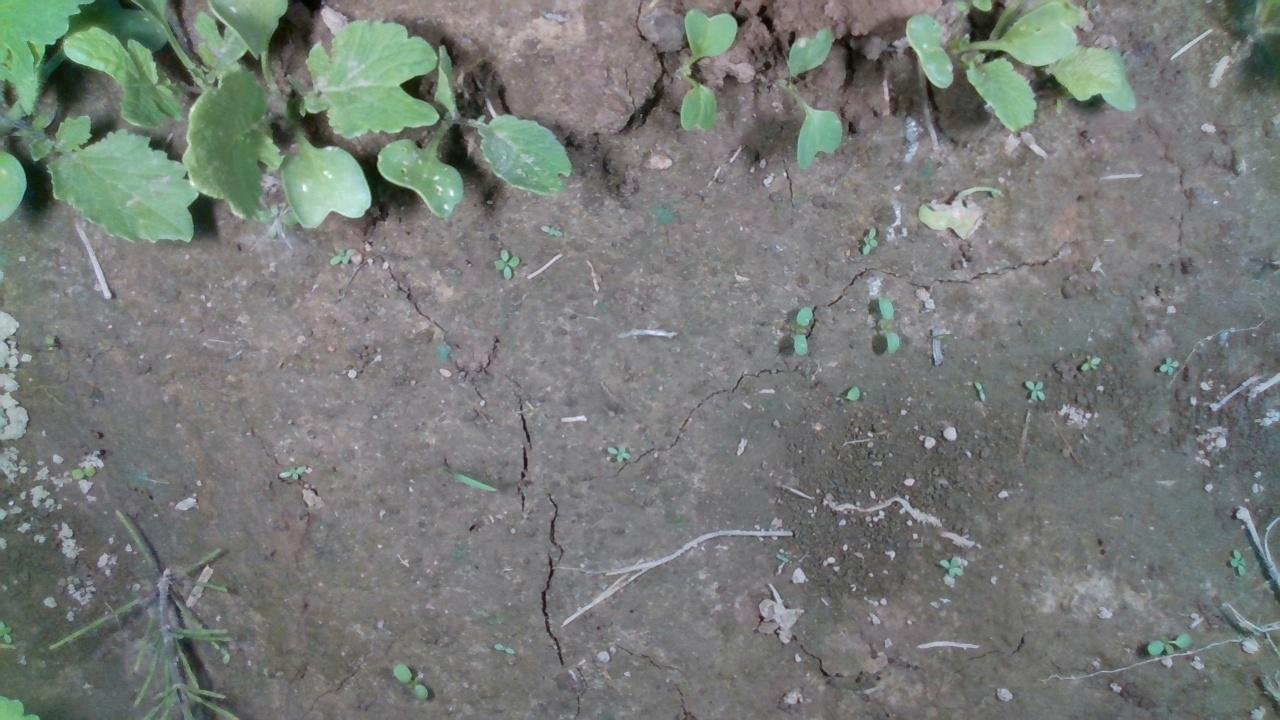weed: (783, 300, 819, 357), (873, 293, 902, 357)
